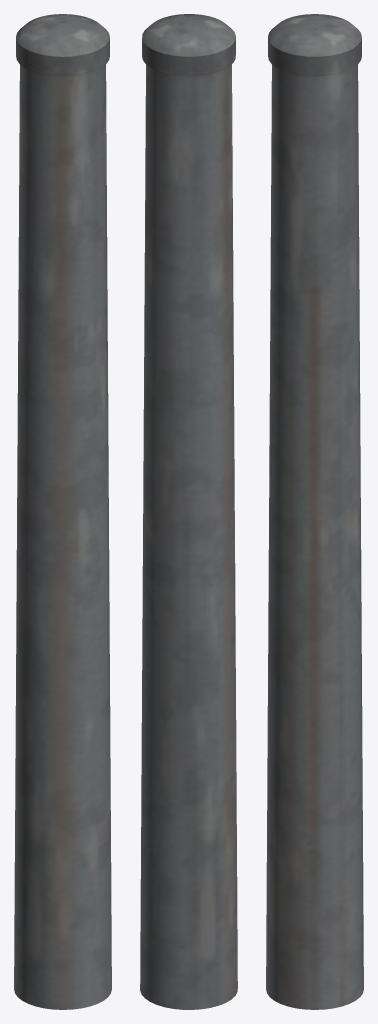
Rendered from mastTop-v1-galvanised.glb.
The picture shows the model from 3 angles, left to right: view 1: azimuth 90°, elevation 25°; view 2: azimuth 150°, elevation 25°; view 3: azimuth 270°, elevation 25°; orthographic projection.
Visible parts, largest first — view 1: mastTop-v1-galvanised; view 2: mastTop-v1-galvanised; view 3: mastTop-v1-galvanised.
Boxes of the visible parts, left/top/right/bottom form: mastTop-v1-galvanised: left=14, top=14, right=111, bottom=1009; mastTop-v1-galvanised: left=140, top=14, right=237, bottom=1009; mastTop-v1-galvanised: left=266, top=14, right=363, bottom=1009.
Bounding box in the file's own units: 0.2284 × 2.48 × 0.2284.
1 material, 1 textured.
